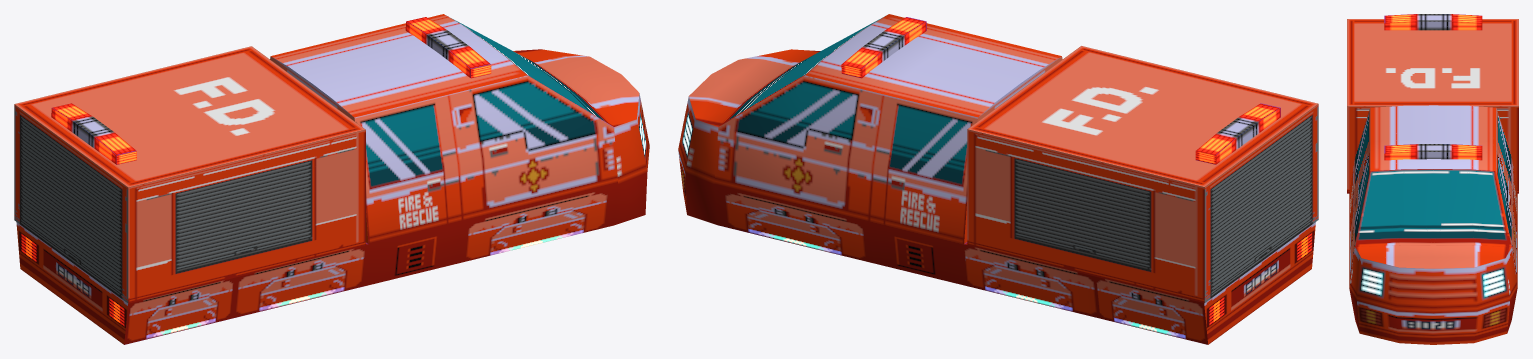
Rendered from firetruck.FBX.
3 renders of one model, left to right at view 1: azimuth 30°, elevation 25°; view 2: azimuth 150°, elevation 25°; view 3: azimuth 270°, elevation 25°, orthographic. The views are drawn at different scales.
Parts seen in each view (by area): view 1: firetruck; view 2: firetruck; view 3: firetruck.
Part boxes in pixels (x1,y1,x2,y2): firetruck: (14,14,649,344); firetruck: (678,14,1318,344); firetruck: (1347,14,1518,344).
Size of the model in its own units: 89.68 by 26.77 by 31.7.
2 materials, 2 textured.
